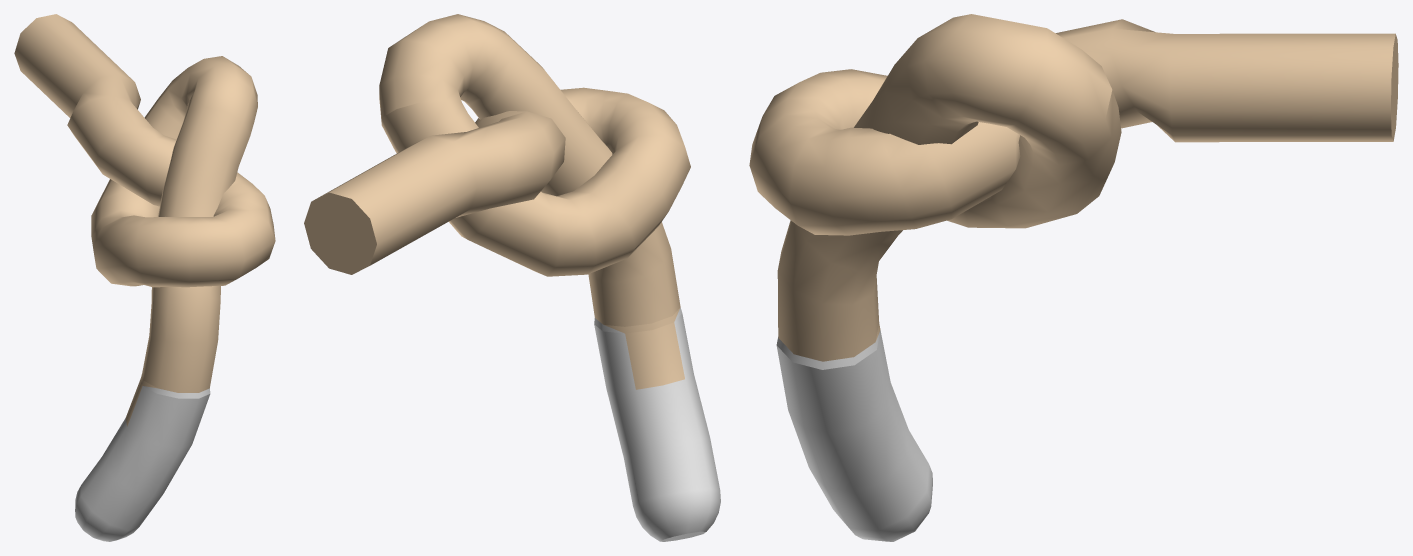
The model's file is bridge_piece_ropeknot_01.fbx.
The picture shows the model from 3 angles, left to right: view 1: azimuth 30°, elevation 25°; view 2: azimuth 150°, elevation 25°; view 3: azimuth 270°, elevation 25°; orthographic projection. The views are drawn at different scales.
Visible parts, largest first — view 1: pCylinder9; view 2: pCylinder9; view 3: pCylinder9.
Part boxes in pixels (<box>): pCylinder9: <box>14,14,275,541</box>; pCylinder9: <box>304,14,720,541</box>; pCylinder9: <box>749,14,1398,541</box>.
Bounding box in the file's own units: 20.77 × 37.46 × 35.22.
